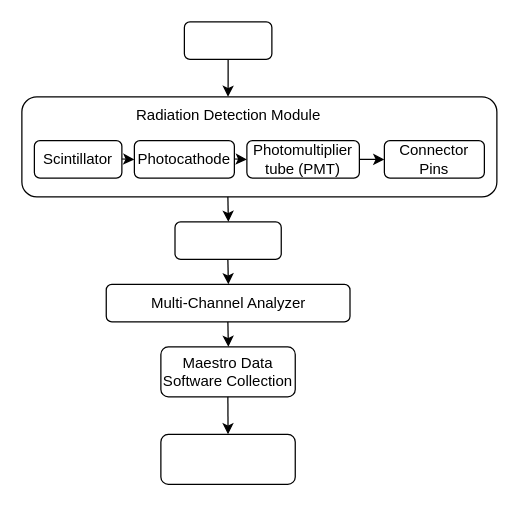
This 519x506 diagram has some shape labels left out. Each missing label, with the box of its shape:
Linear Pre-Amplifier: (174, 221, 281, 259)
Python Data Analysis: (160, 433, 295, 484)
Sample: (183, 21, 272, 59)
